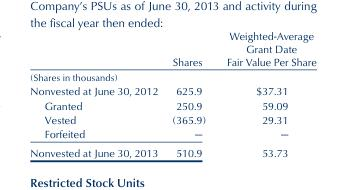table: (29, 28, 315, 158)
table column: (29, 28, 164, 158), (215, 28, 315, 158), (164, 28, 215, 158)
table column header: (29, 28, 315, 83)
table row: (29, 28, 315, 83), (29, 126, 315, 142), (29, 142, 315, 158), (29, 97, 315, 112), (29, 83, 315, 97), (29, 112, 315, 126)
